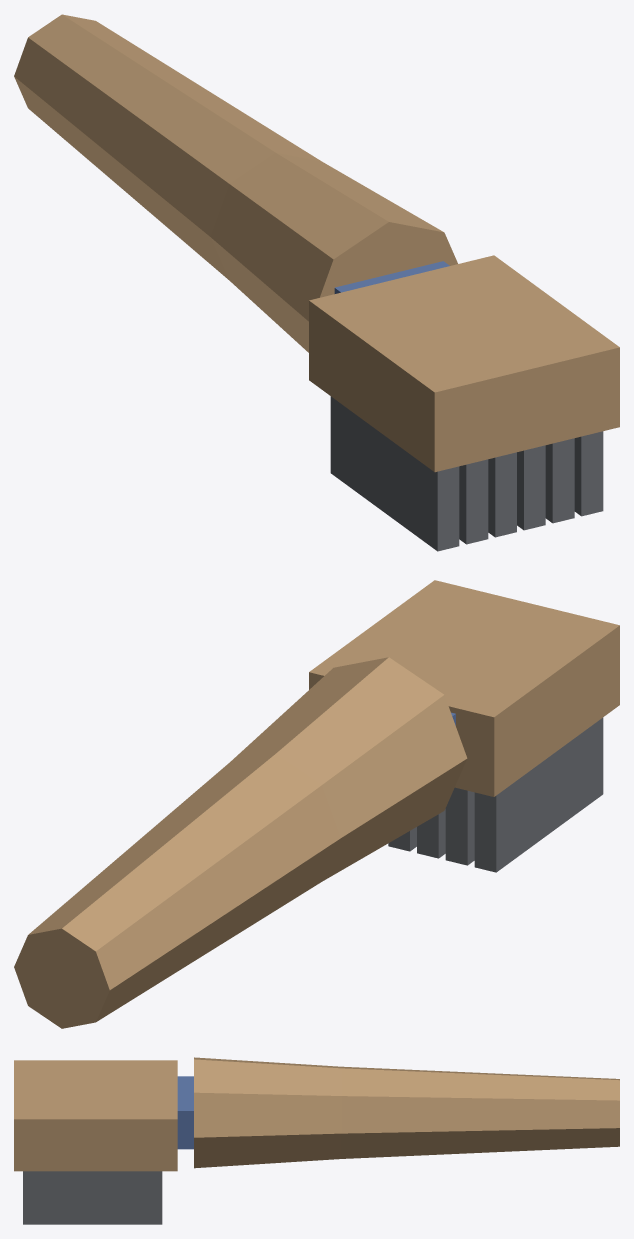
File: baseball-park-and-batting-cages-umpire-brush-3688ab9e__33778.glb
3 views of the same model, one above another, from view 1: azimuth 30°, elevation 25°; view 2: azimuth 150°, elevation 25°; view 3: azimuth 270°, elevation 25° (orthographic). The views are drawn at different scales.
Parts seen in each view (by area): view 1: umpire-brush; view 2: umpire-brush; view 3: umpire-brush.
Part boxes in pixels (x1=…): umpire-brush: x1=14, y1=14, x2=619, y2=551; umpire-brush: x1=14, y1=580, x2=619, y2=1028; umpire-brush: x1=14, y1=1057, x2=619, y2=1224.
Bounding box in the file's own units: 0.085 × 0.0935 × 0.37.
